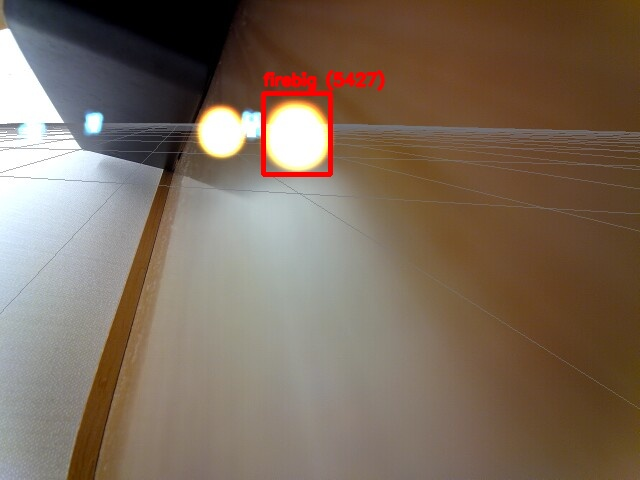firebig: (263, 93, 330, 174)
